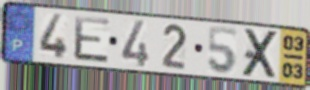2: (160, 23, 189, 72)
4: (119, 17, 152, 69), (37, 12, 70, 62)
5: (208, 24, 240, 77)
E: (73, 14, 113, 66)
X: (240, 28, 282, 80)
